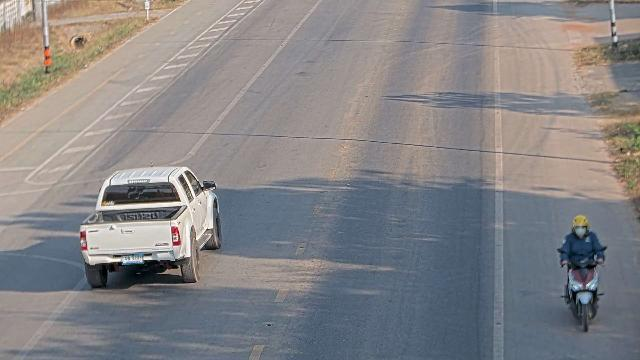motorcycle: (552, 212, 610, 333)
pickup-truck: (78, 163, 222, 288)
